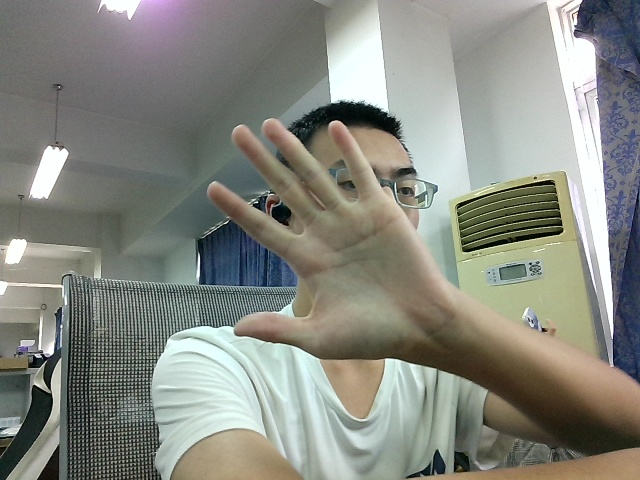paper: (202, 108, 463, 366)
